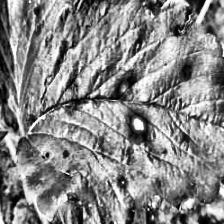Leaf Spot: (14, 0, 224, 224), (0, 0, 92, 126)
